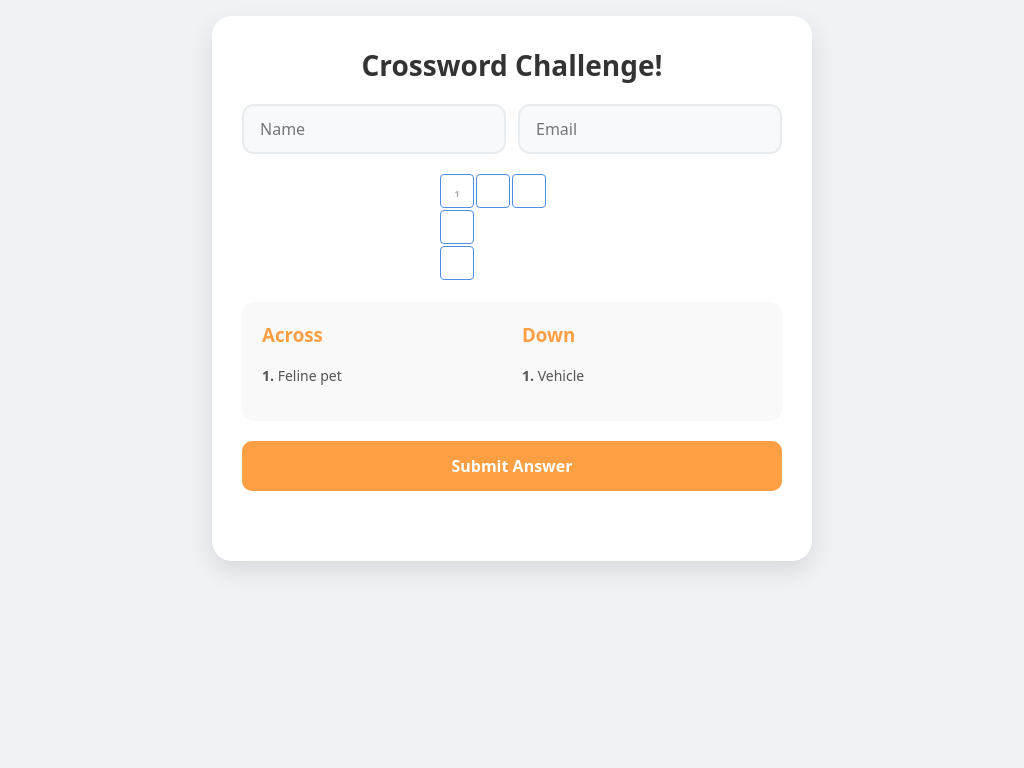
Test case: CrosswordPuzzle › shows confirmation modal after validation passes
Expected: the button with class "submit-btn" is shown, x1=242 y1=441 x2=782 y2=491
Type "Test" into the field with placeholder "Name" at [374, 129], box x1=242 y1=104 x2=506 y2=154
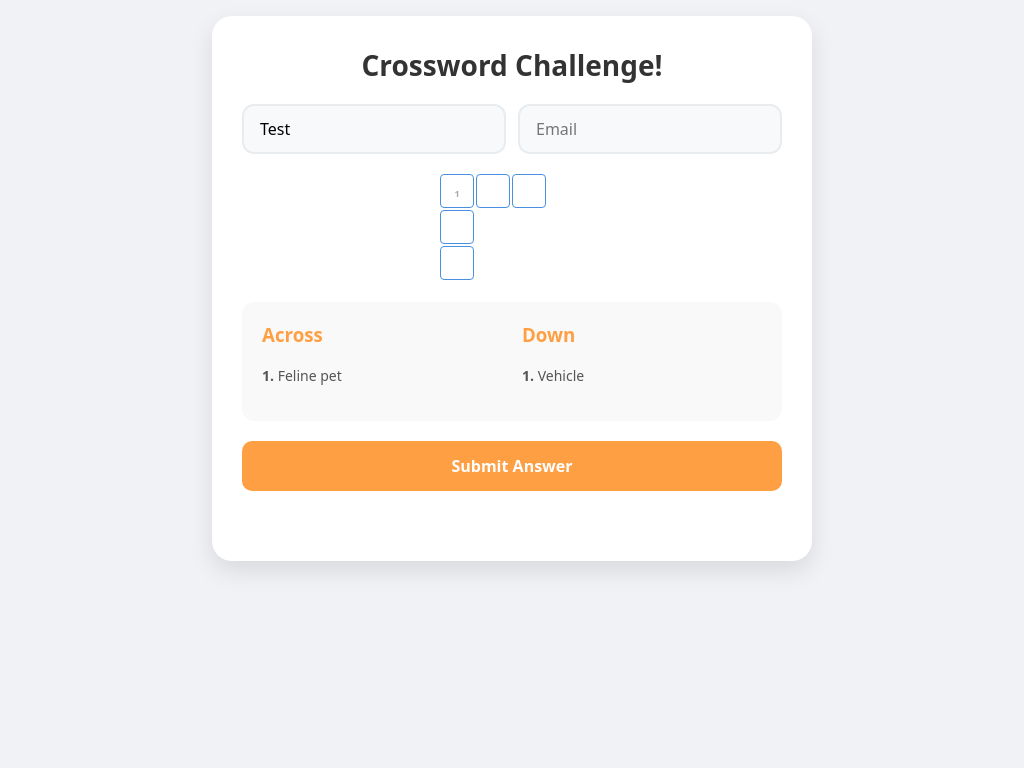
Type "test@example.com" into the field with placeholder "Email" at [650, 129], box x1=518 y1=104 x2=782 y2=154
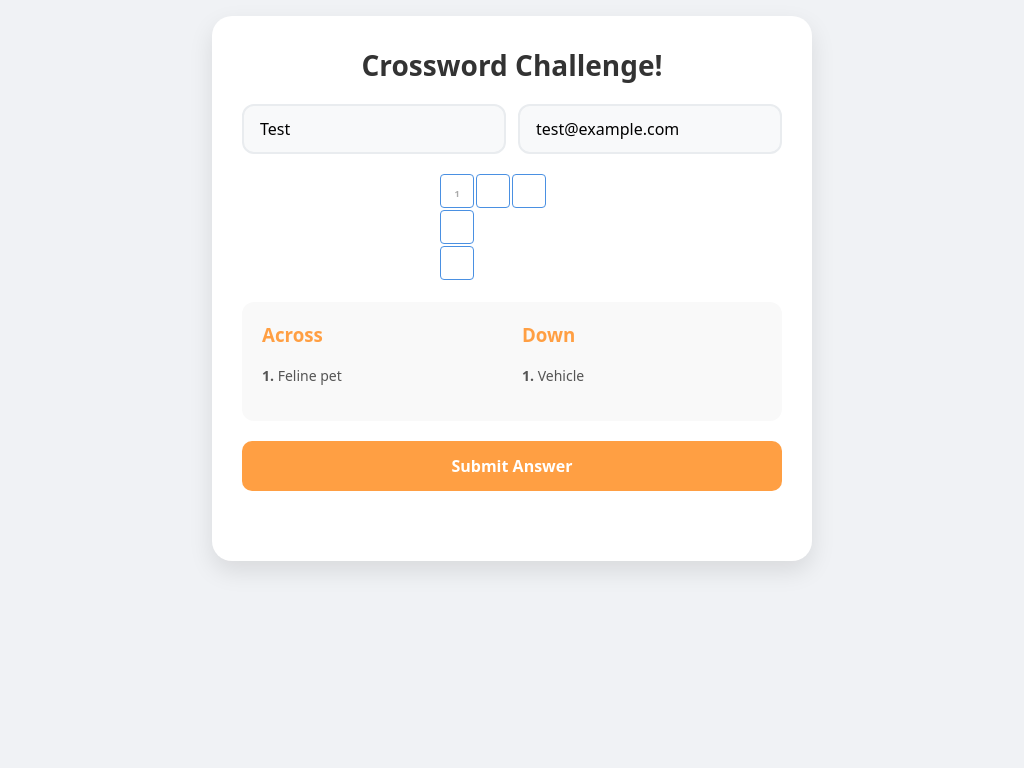
Click the button with class "submit-btn" at [512, 466], box x1=242 y1=441 x2=782 y2=491
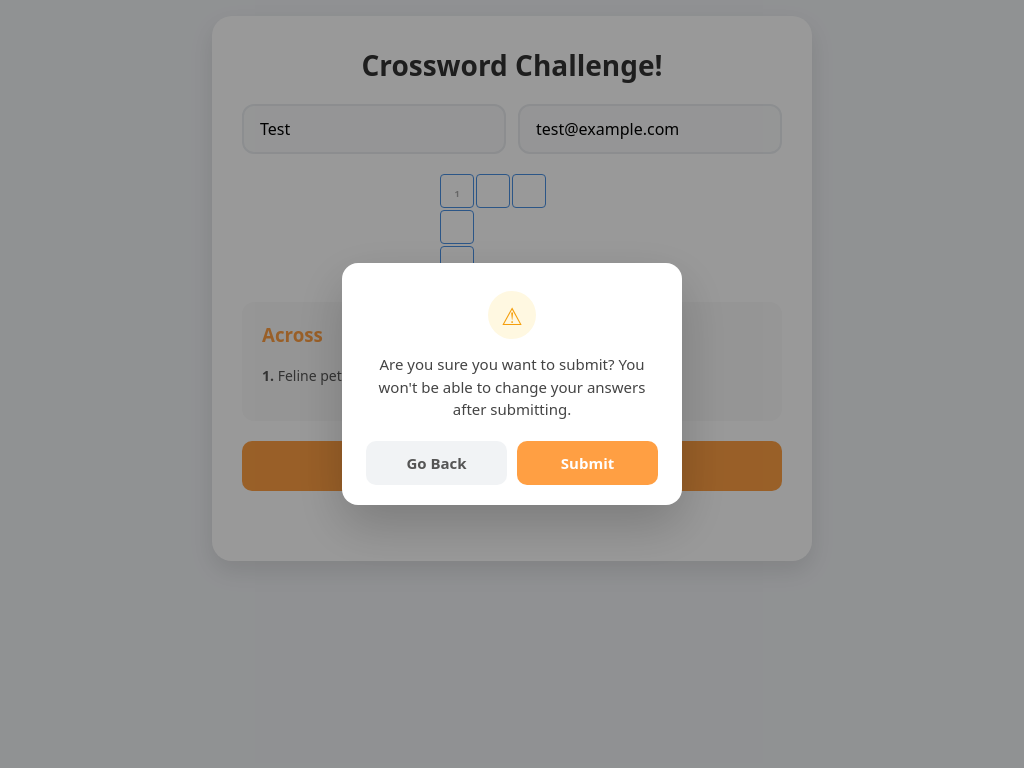
Now the element with class "modal-card" is shown, box x1=342 y1=263 x2=682 y2=505
Now the text "Are you sure" is shown, box x1=379 y1=354 x2=646 y2=419
